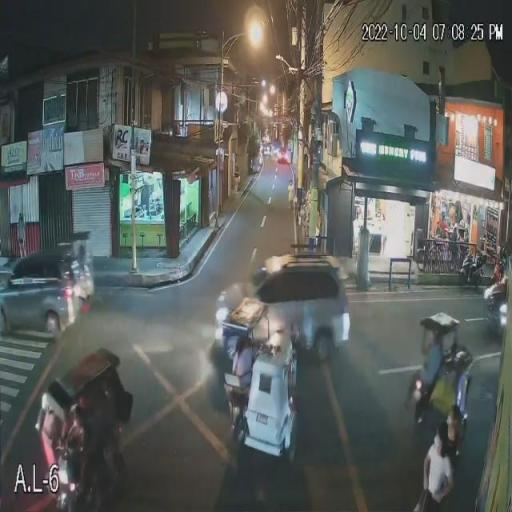helmet: (444, 403, 466, 445), (432, 427, 452, 462)
rider: (422, 450, 454, 502)
